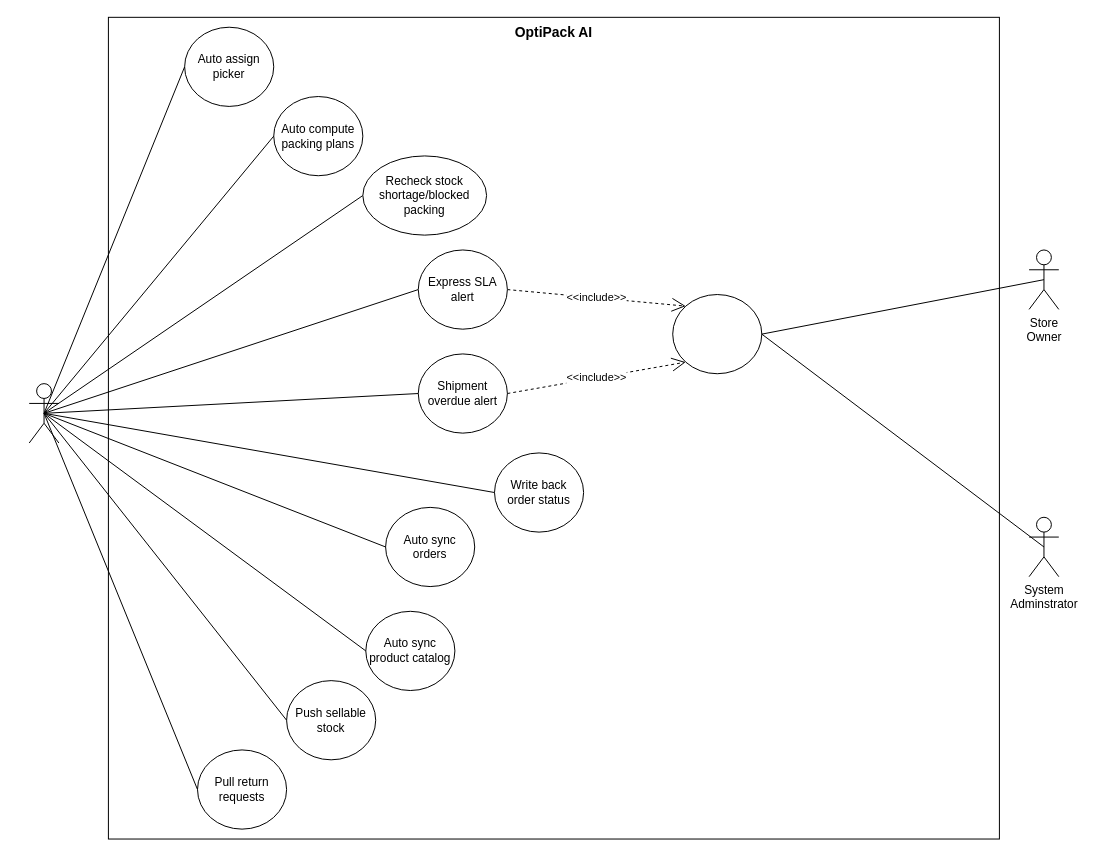
This 1095x856 diagram has some shape labels left out. Here are the shapes that lost their labels. From the top down, the box of each, then its label:
(672, 294, 762, 374): Send notification
(28, 383, 59, 443): System Scheduler
